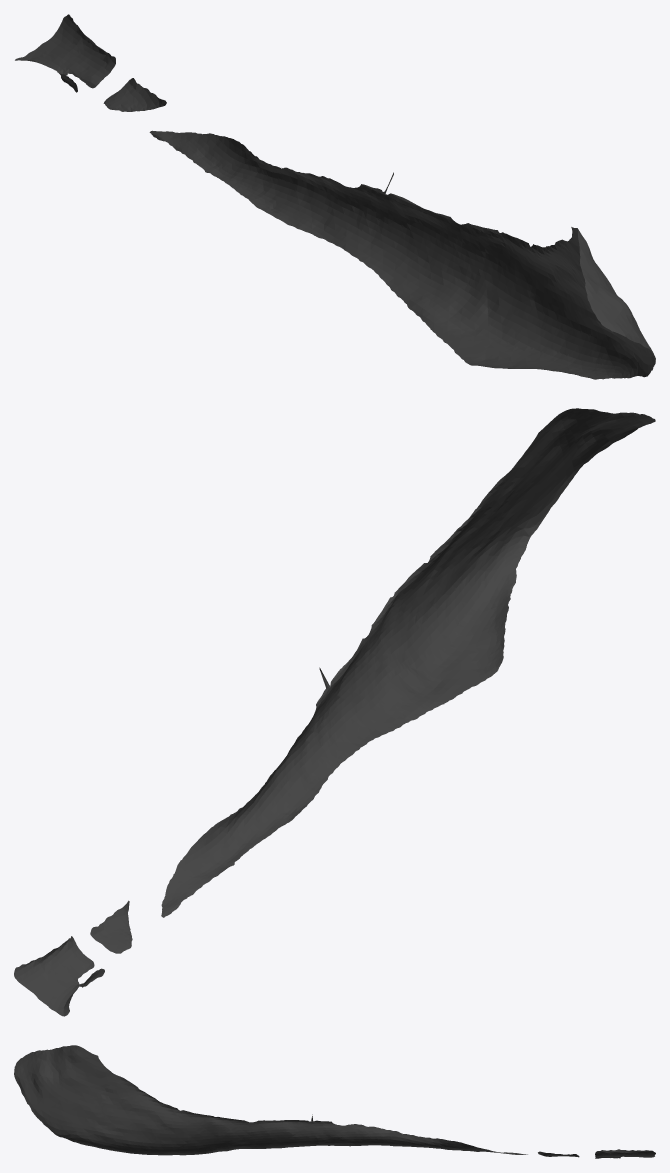
File: musc_exten_carpi_radialis.glb
3 renders of one model, top to bottom at view 1: azimuth 30°, elevation 25°; view 2: azimuth 150°, elevation 25°; view 3: azimuth 270°, elevation 25°, orthographic. The views are drawn at different scales.
Parts seen in each view (by area): view 1: musc_exten_carpi_radialis; view 2: musc_exten_carpi_radialis; view 3: musc_exten_carpi_radialis.
Part boxes in pixels (x1,y1,x2,y2): musc_exten_carpi_radialis: (15,14,655,379); musc_exten_carpi_radialis: (14,408,655,1016); musc_exten_carpi_radialis: (14,1045,655,1158).
Size of the model in its own units: 0.0733 by 0.16 by 0.7992.
1 material, 1 textured.
